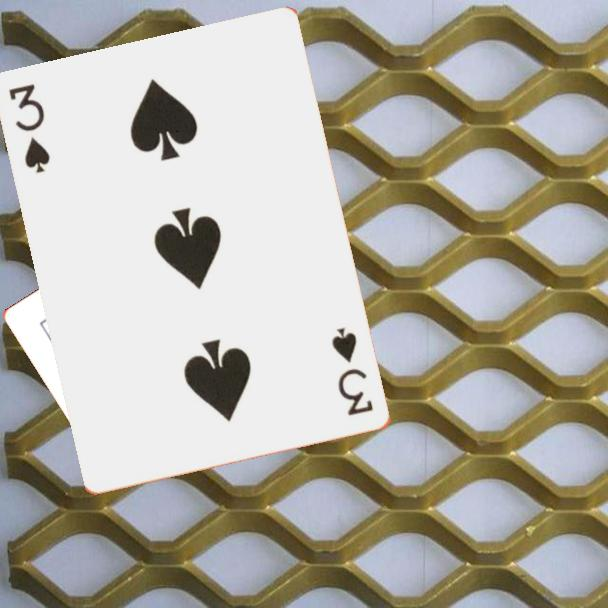s03: (6, 80, 54, 177), (329, 324, 377, 419)
